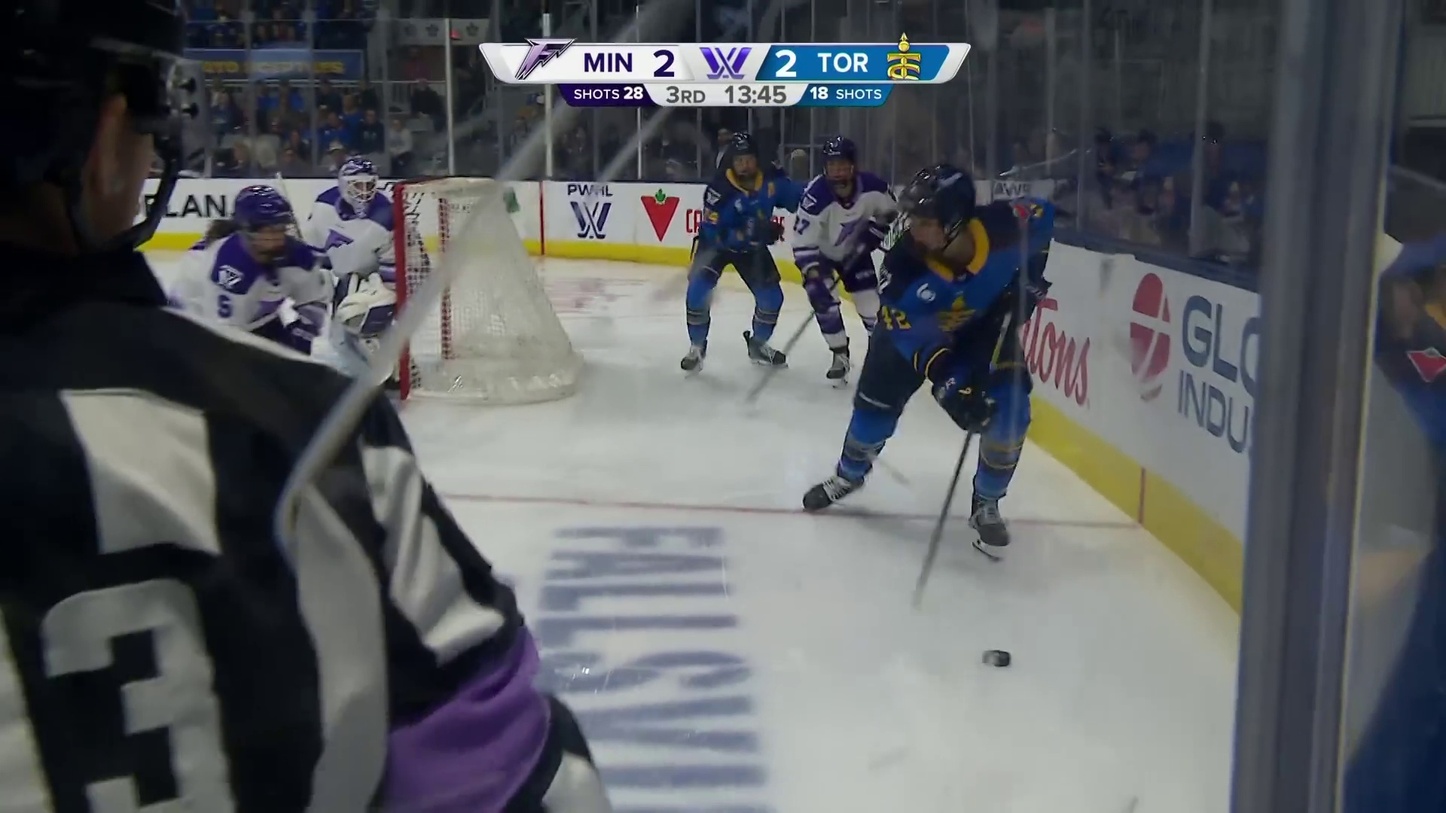player: (798, 159, 1049, 559), (681, 128, 796, 372), (790, 134, 893, 380)
puck: (975, 641, 1021, 673)
